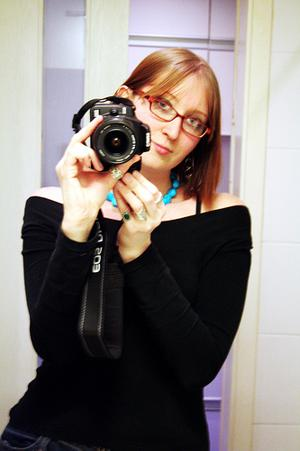person: (2, 46, 253, 449)
